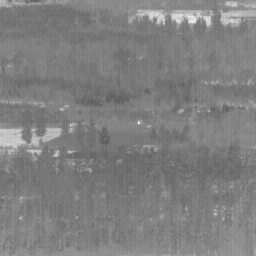aircraft: (100, 102, 102, 104)
